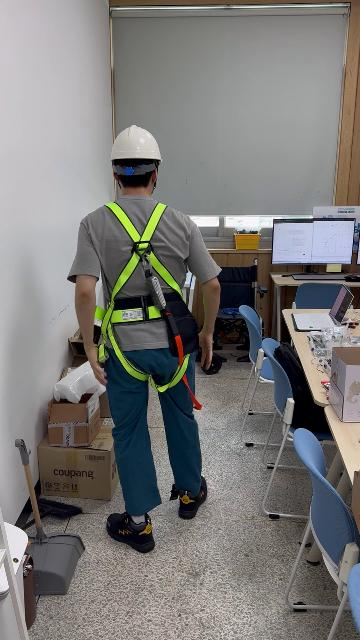helmet_worn: (109, 124, 164, 163)
shoe_worn: (106, 511, 154, 553), (175, 475, 207, 519)
vest_worn: (96, 203, 194, 383)
